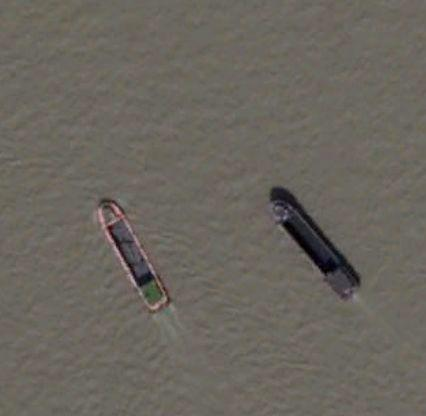Ships: (250, 181, 366, 301), (91, 180, 174, 324)
